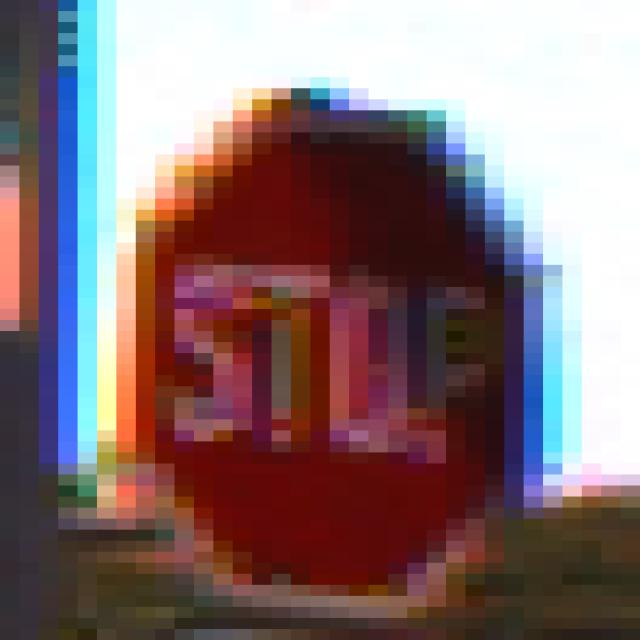STOP: (98, 56, 525, 575)
